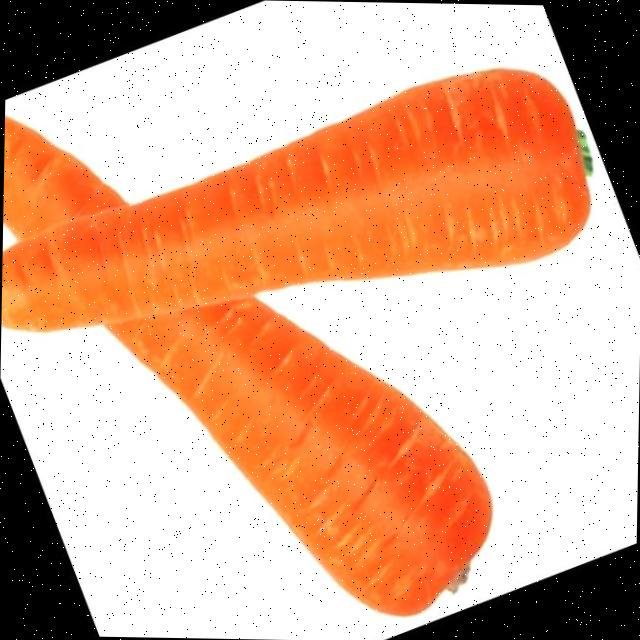carrot: (2, 113, 489, 614), (0, 70, 588, 329)
